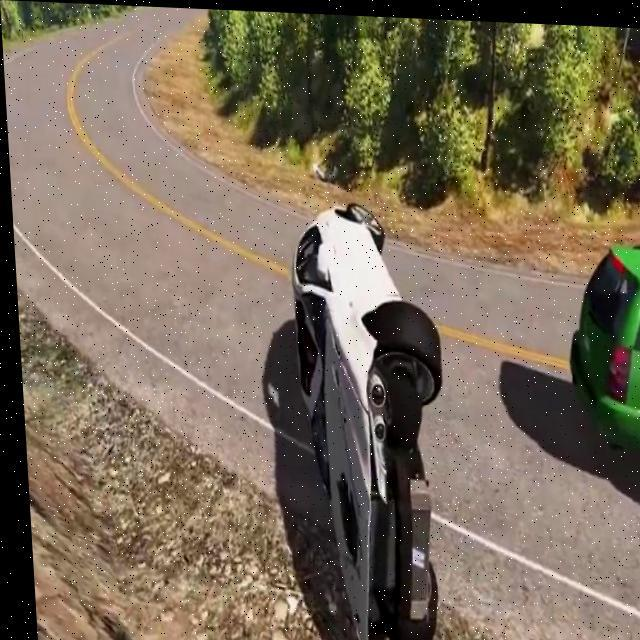single accident: (279, 205, 481, 640)
